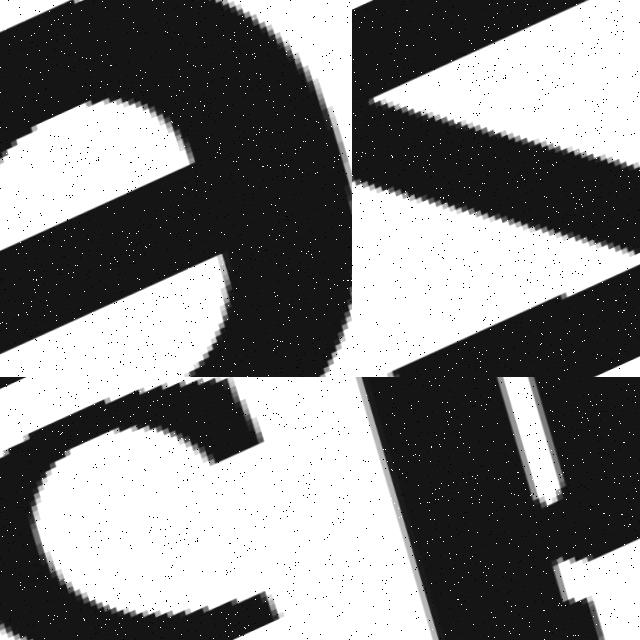3: (0, 377, 352, 640)
E: (0, 0, 352, 377)
Q: (352, 377, 640, 640)
Z: (352, 0, 640, 377)
